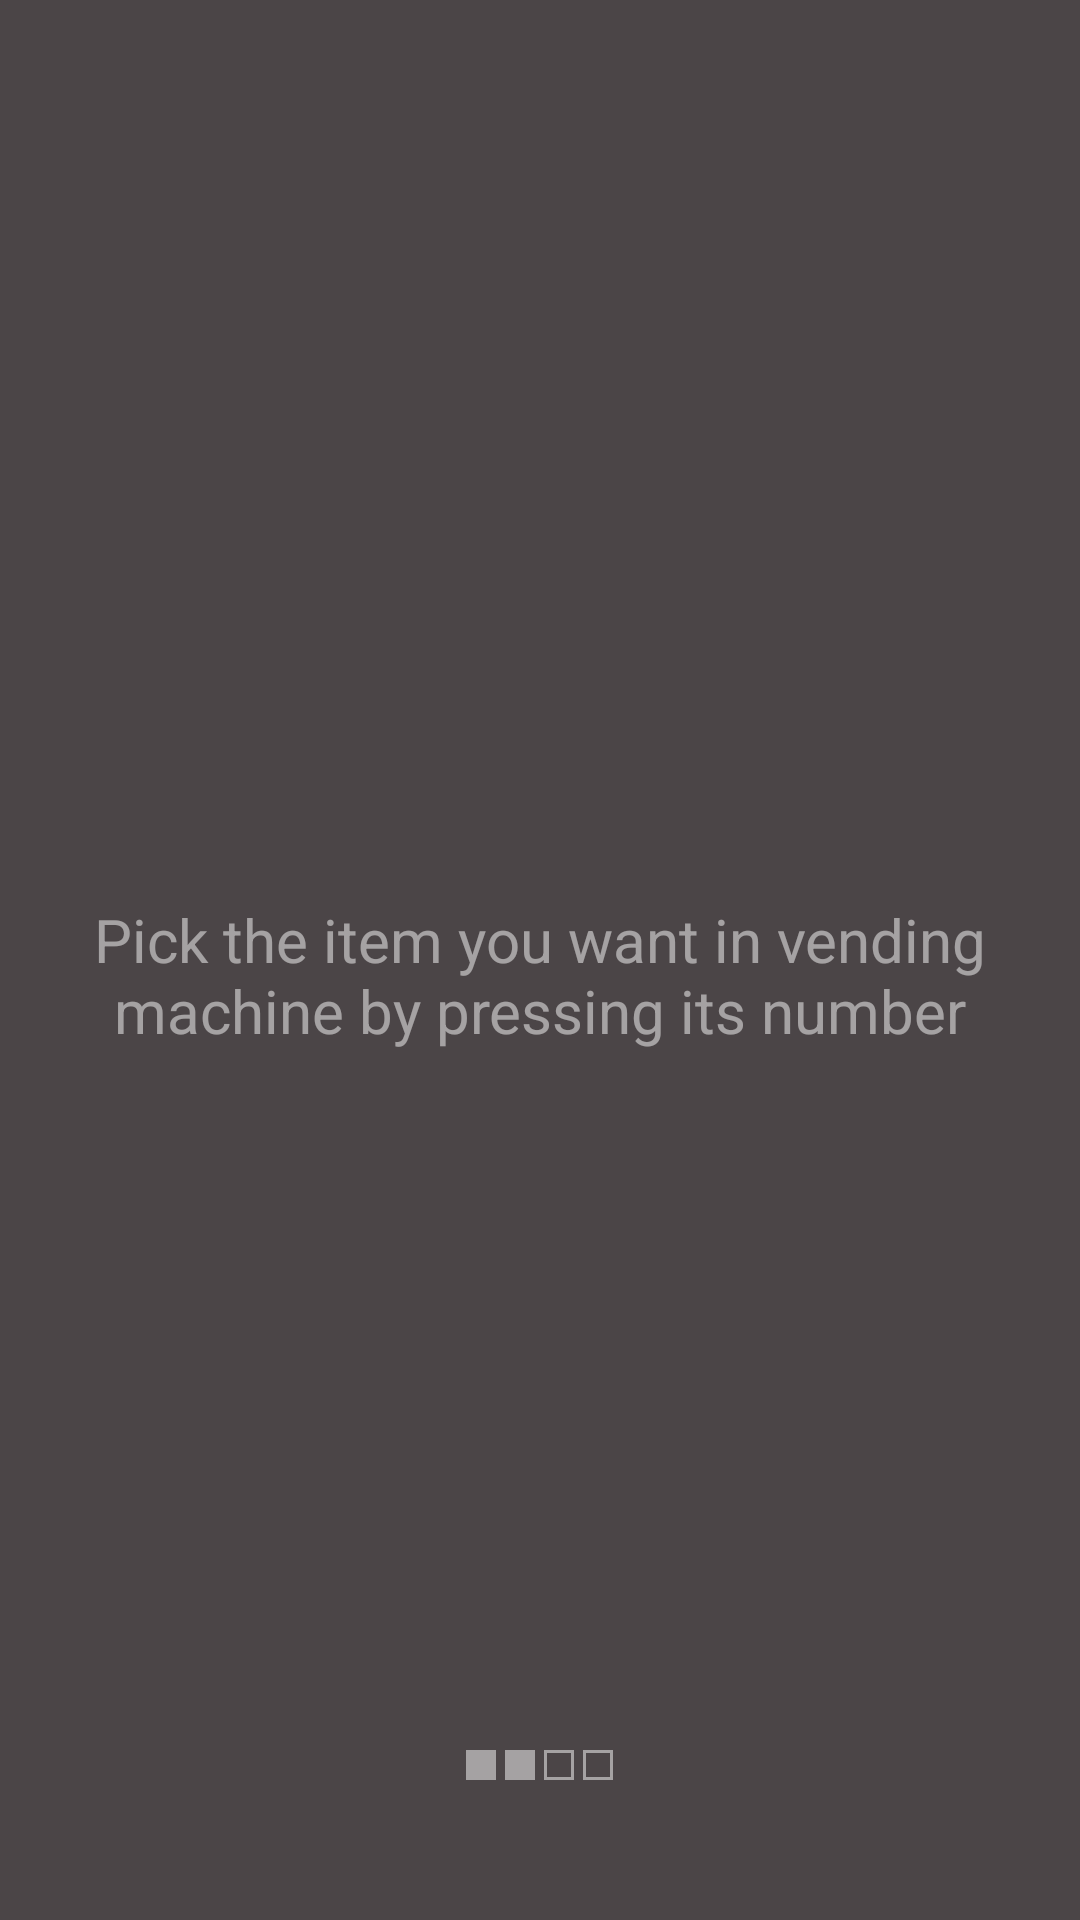

Where icons sit on this 1080x1920 app screen, as region(x1, y1, x2, y2):
vend progress unfill box: region(544, 1750, 574, 1780), region(583, 1750, 613, 1780)
